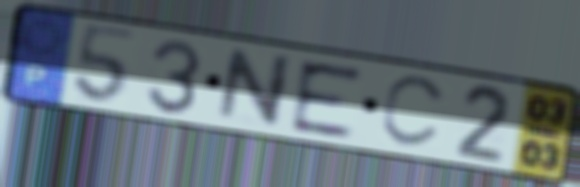2: (453, 84, 514, 167)
3: (143, 37, 205, 117)
5: (70, 21, 143, 109)
C: (377, 74, 451, 152)
E: (289, 58, 366, 140)
N: (213, 46, 297, 131)
